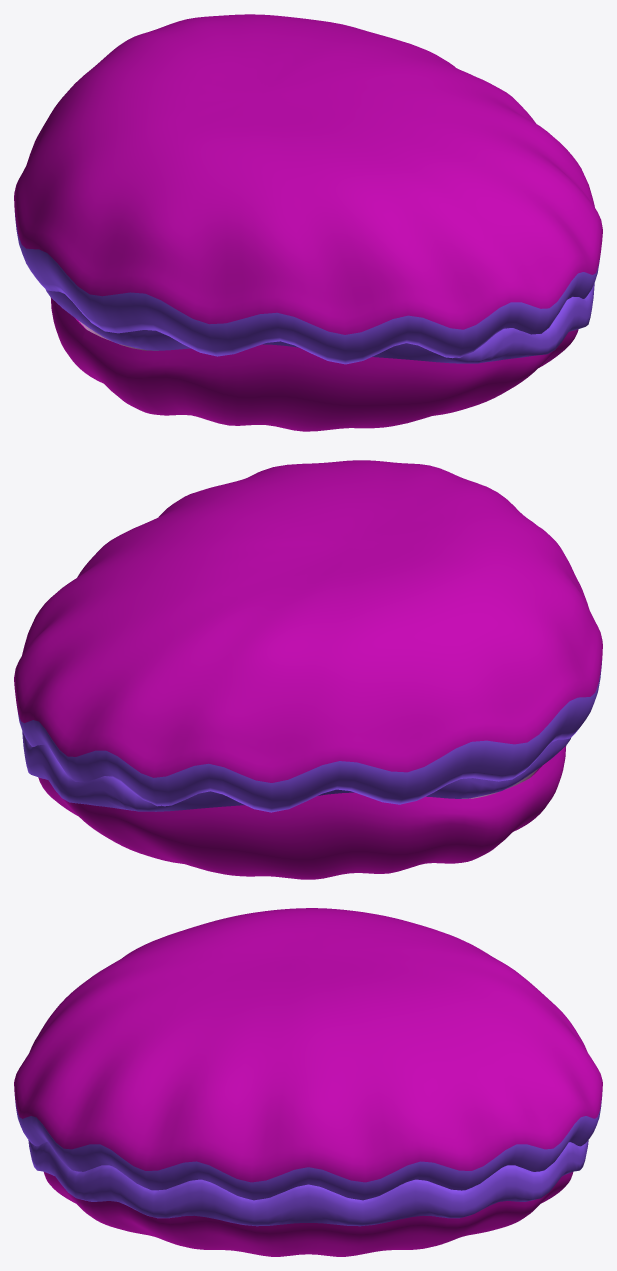
File: shell.fbx
3 renders of one model, top to bottom at view 1: azimuth 30°, elevation 25°; view 2: azimuth 150°, elevation 25°; view 3: azimuth 270°, elevation 25°, orthographic. The views are drawn at different scales.
Parts seen in each view (by area): view 1: Sphere.001, Sphere; view 2: Sphere.001, Sphere; view 3: Sphere.001, Sphere.
Part boxes in pixels (bbox=[...]): Sphere.001: bbox=[14, 14, 602, 364]; Sphere: bbox=[45, 283, 594, 431]; Sphere.001: bbox=[14, 460, 602, 812]; Sphere: bbox=[22, 731, 571, 879]; Sphere.001: bbox=[14, 908, 602, 1200]; Sphere: bbox=[28, 1140, 588, 1256].
Bounding box in the file's own units: 426 × 236 × 506.
